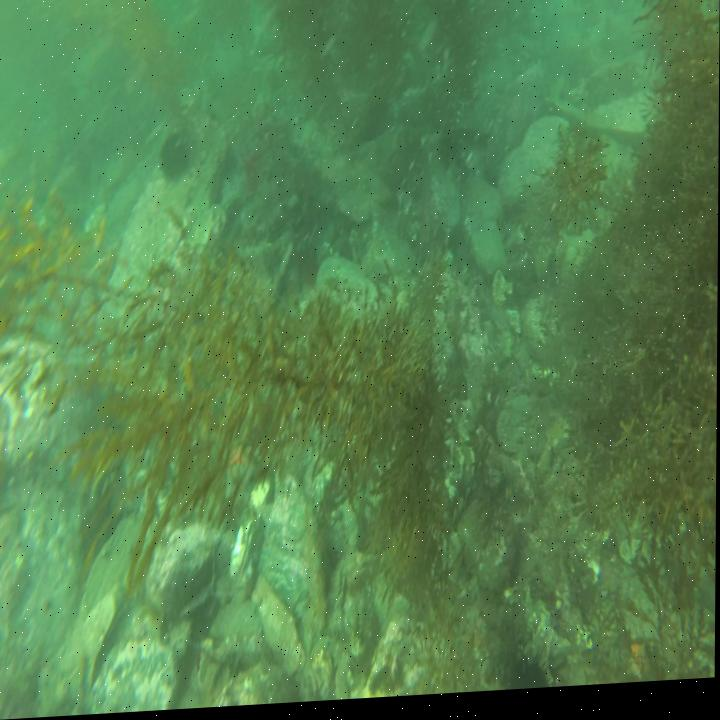echinus: (158, 129, 193, 189)
